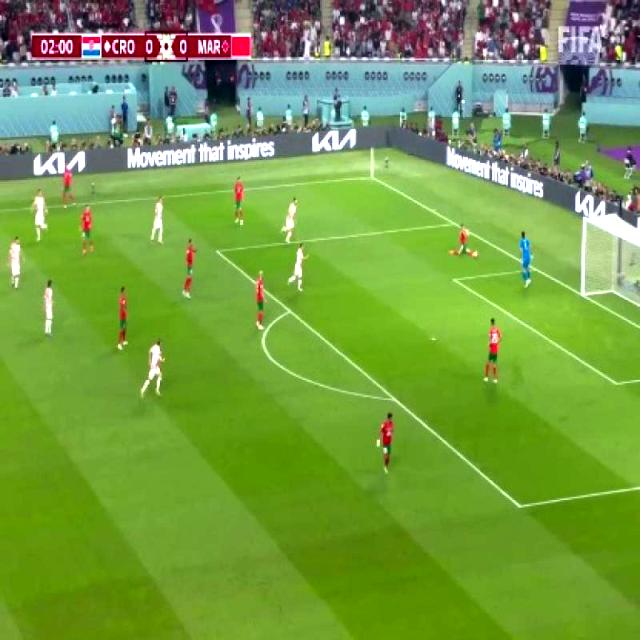bigarea_bottom_inner: (509, 492, 529, 518)
bigarea_top_inner: (209, 240, 223, 260)
bigarea_top_outter: (446, 214, 460, 231)
bottom_arc_area_intersection: (385, 388, 400, 408)
corner: (362, 169, 378, 183)
smallarea_bottom_inner: (606, 370, 626, 395)
smallarea_top_inner: (446, 269, 462, 288)
smallarea_top_outter: (526, 260, 539, 277)
top_arc_area_intersection: (280, 300, 295, 320)
